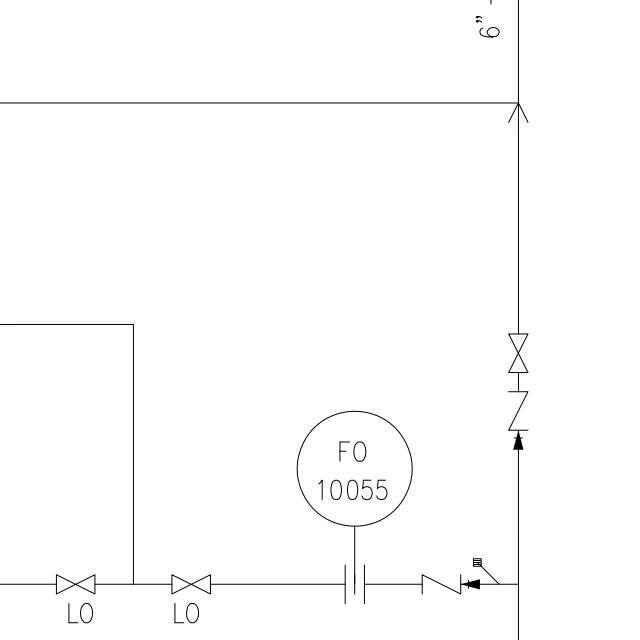GV: (503, 327, 535, 380), (49, 570, 100, 599), (163, 572, 217, 596)
